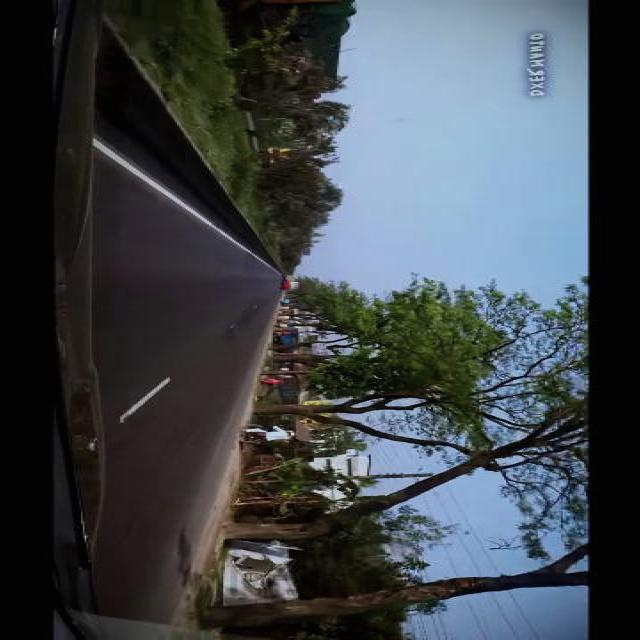bus: (284, 283, 300, 292)
motorcycle: (240, 426, 274, 446)
